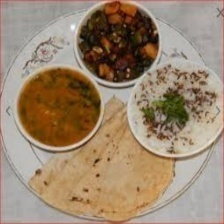rice: (125, 60, 224, 160)
